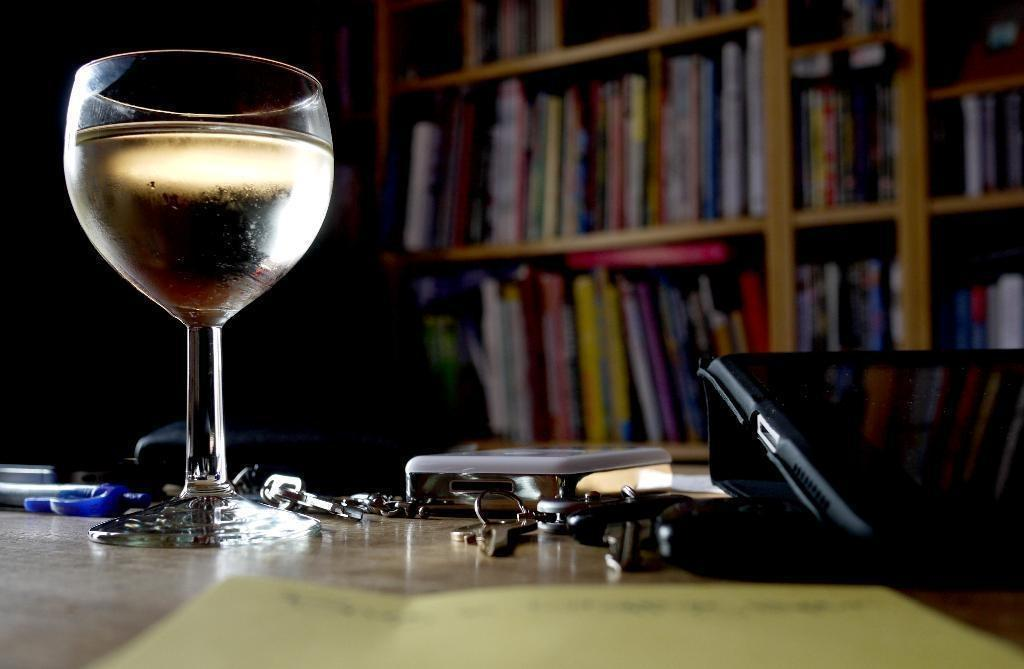glass-wine: (66, 50, 335, 548)
